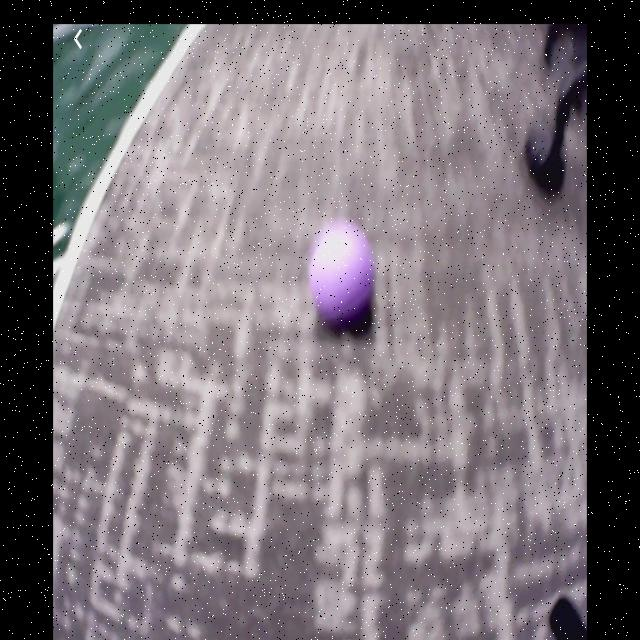ball: (312, 226, 376, 324)
